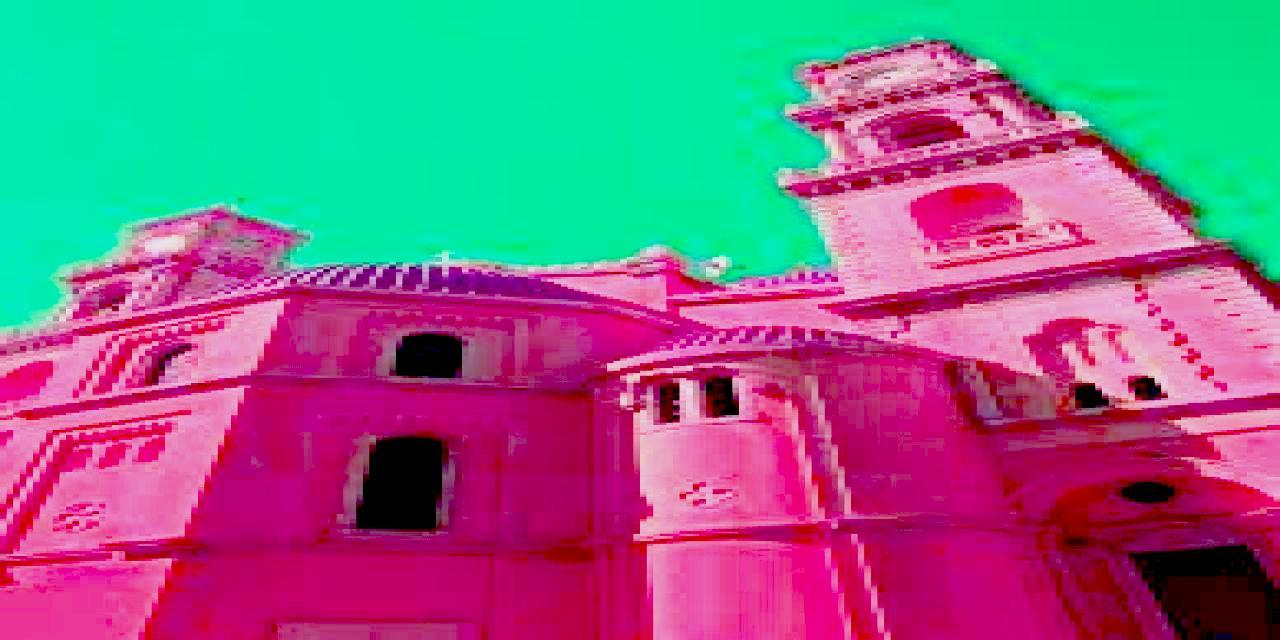Agios Minas: (1, 35, 1280, 640)
